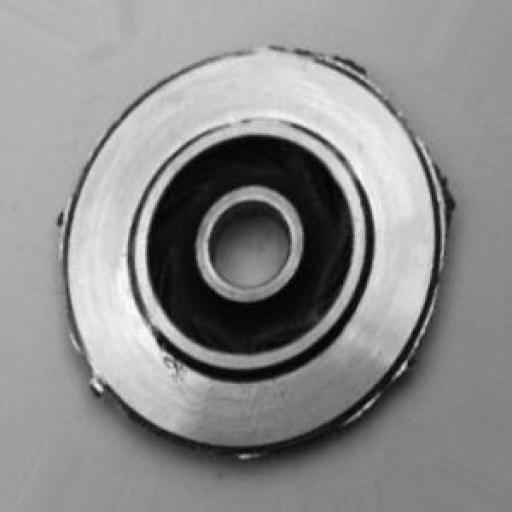defect: (48, 20, 480, 477)
